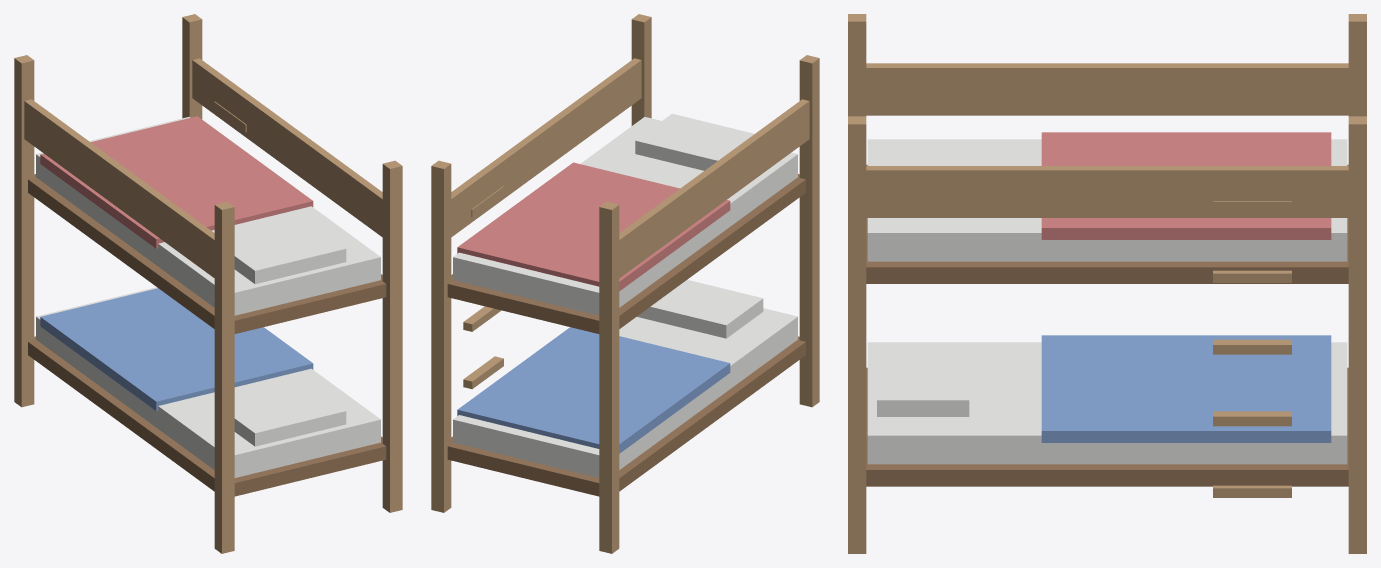
The model's file is bunk_bed.glb.
3 views of the same model, side by side, from view 1: azimuth 30°, elevation 25°; view 2: azimuth 150°, elevation 25°; view 3: azimuth 270°, elevation 25° (orthographic). The views are drawn at different scales.
Visible parts, largest first — view 1: bunk_bed; view 2: bunk_bed; view 3: bunk_bed.
Boxes of the visible parts, box(x1,y1,x2,y2) form: bunk_bed: box(14, 14, 402, 553); bunk_bed: box(431, 14, 819, 553); bunk_bed: box(848, 14, 1366, 553).
Size of the model in its own units: 0.99 by 1.8 by 1.97.
